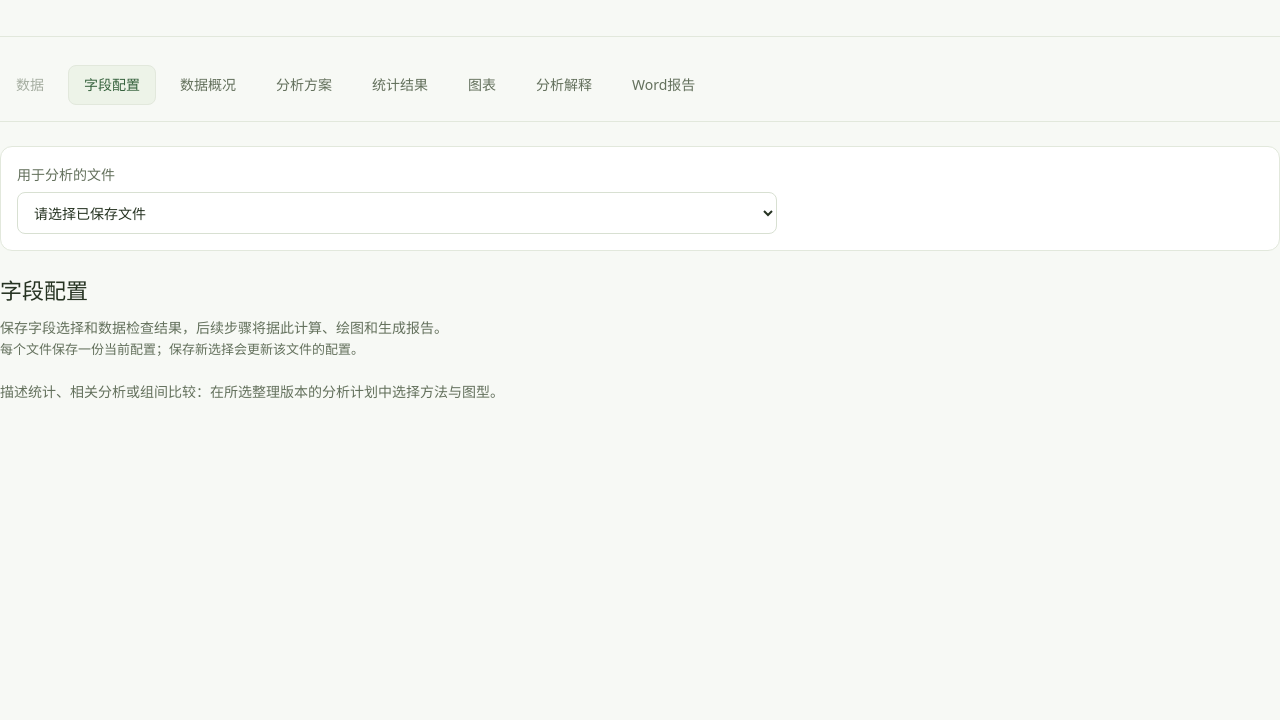
Test case: failed statistics reread keeps the saved result and blocks execution until recovered
Select "研究.xlsx · 2026/9/29 01:00:00" in the dropdown labelled "用于分析的文件". click: (397, 213)
box: [17, 192, 777, 234]
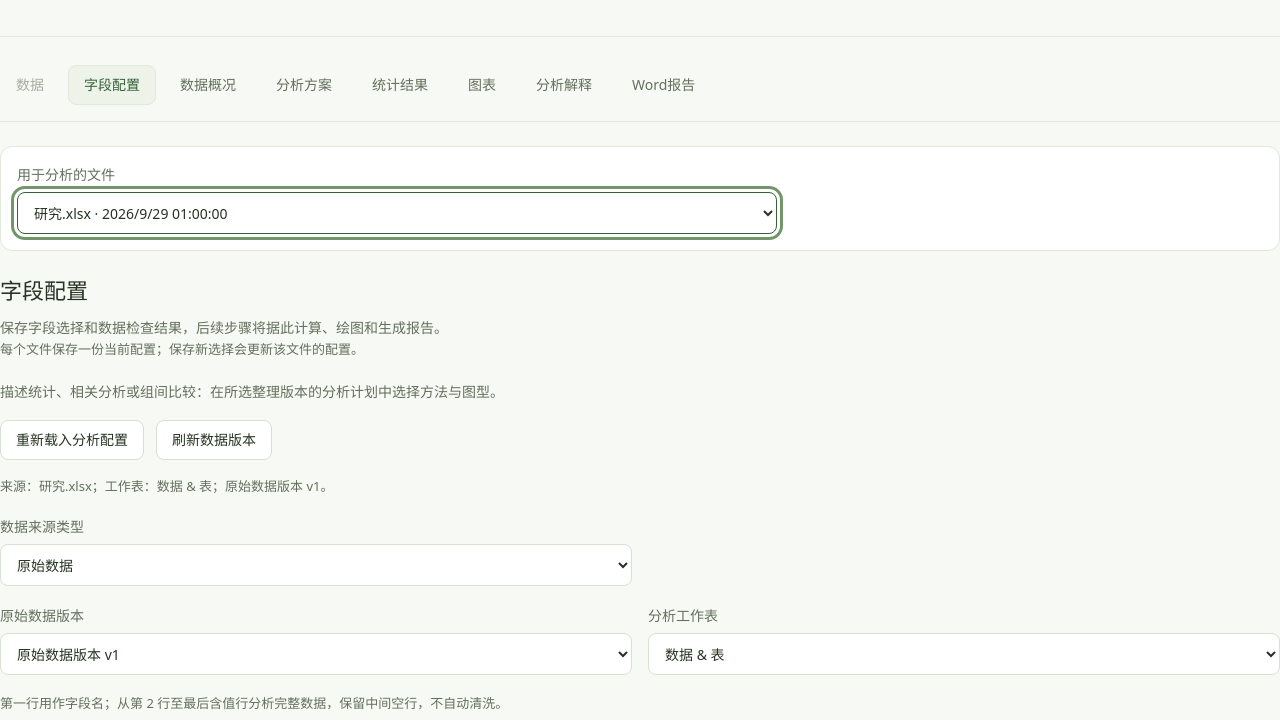
Click the button "统计结果". click: (400, 85)
box: [356, 65, 444, 105]
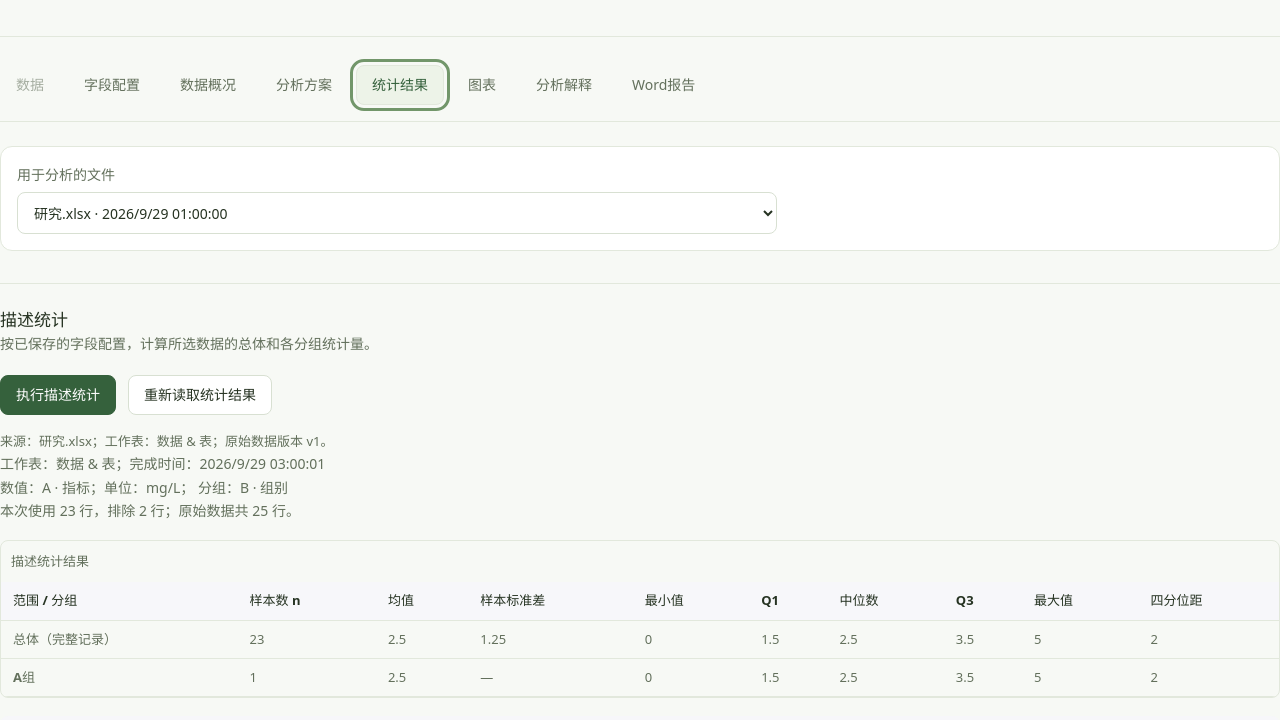
Click the button "重新读取统计结果". click: (200, 395)
box: [128, 375, 272, 415]
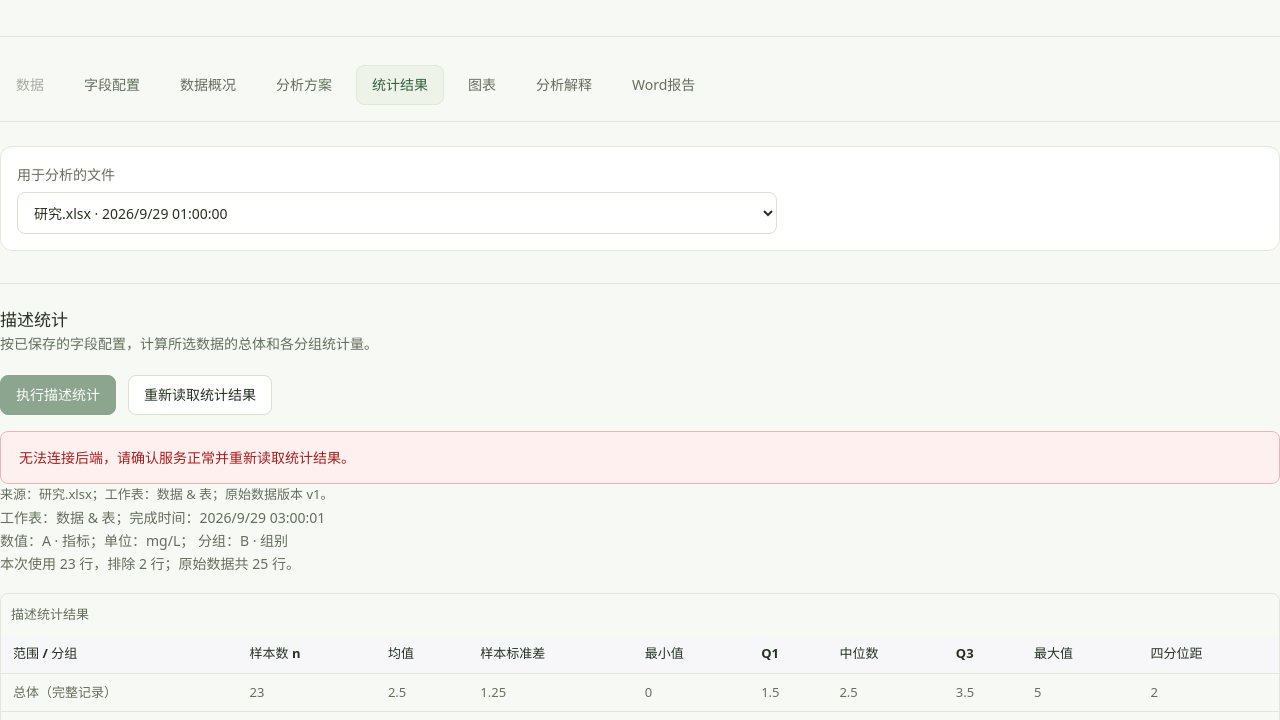
expect the message "无法连接后端，请确认服务正常并重新读取统计结果。" is shown: met, box [0, 431, 1279, 484]
expect the button "执行描述统计" is disabled: met, box [0, 375, 116, 415]
